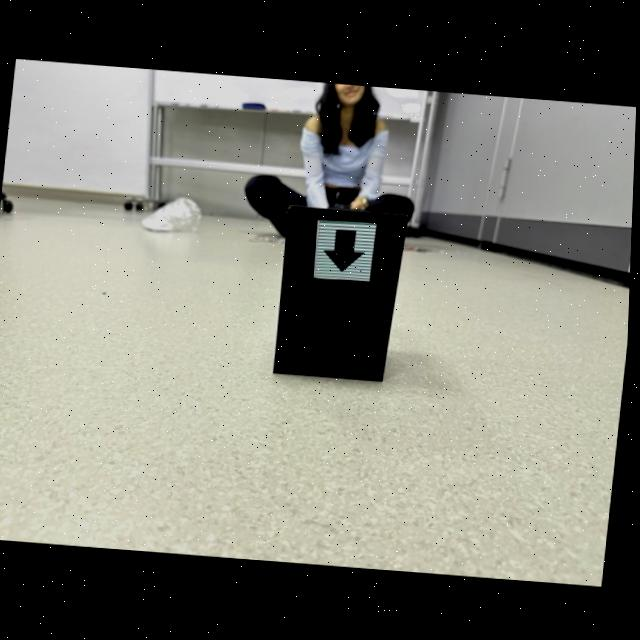DOWN: (326, 228, 367, 271)
